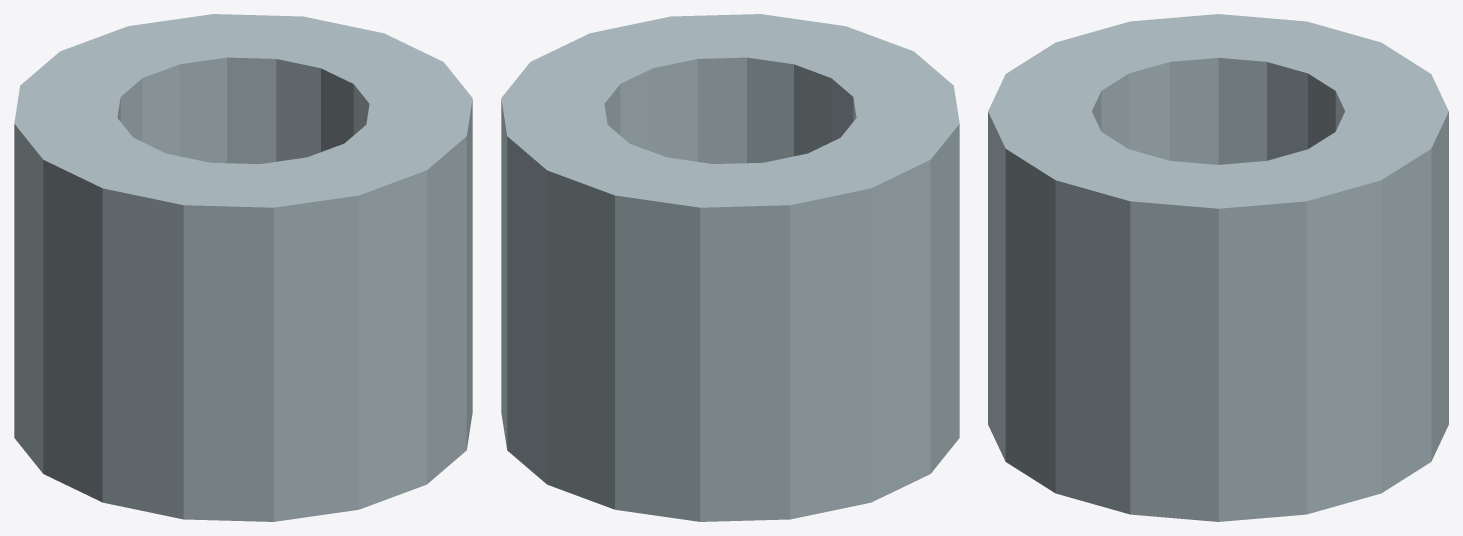
File: rolled-metal-coil.glb
3 views of the same model, side by side, from view 1: azimuth 30°, elevation 25°; view 2: azimuth 150°, elevation 25°; view 3: azimuth 270°, elevation 25° (orthographic).
Parts seen in each view (by area): view 1: steel; view 2: steel; view 3: steel.
Boxes of the visible parts, x1,y1,x2,y2 form: steel: (14,14,472,521); steel: (501,14,959,521); steel: (988,14,1448,521).
Bounding box in the file's own units: 0.8 × 0.6 × 0.8.
